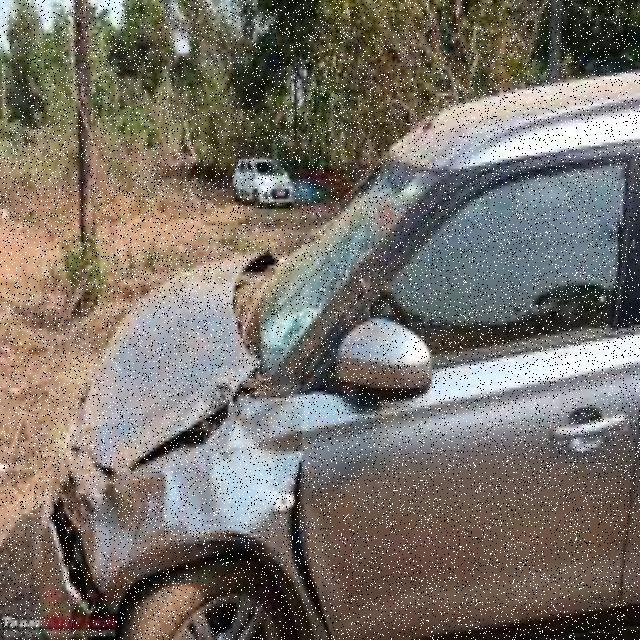Front-Windscreen-Damage: (260, 139, 456, 342)
bonnet-dent: (85, 242, 262, 471)
fender-dent: (113, 441, 306, 574)
front-bumper-dent: (12, 451, 118, 636)
